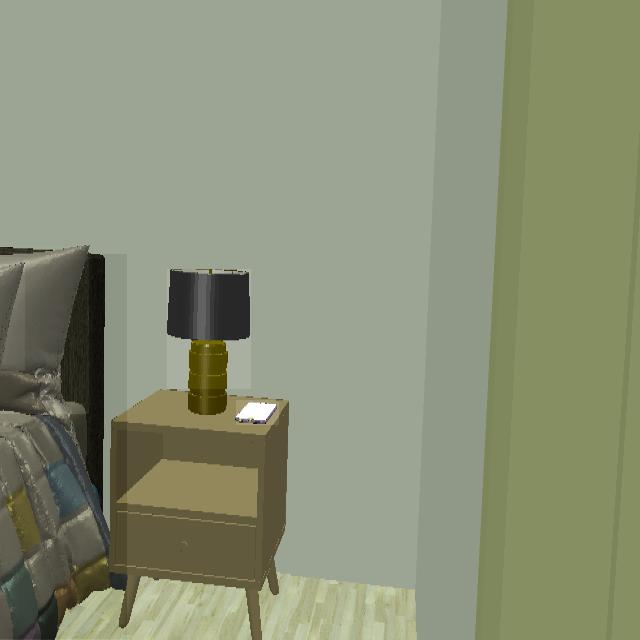bed: (0, 255, 127, 639)
book: (236, 400, 279, 425)
lamp: (167, 269, 251, 416)
nighttable: (109, 391, 290, 639)
pillow: (0, 247, 89, 414), (0, 257, 25, 371)
